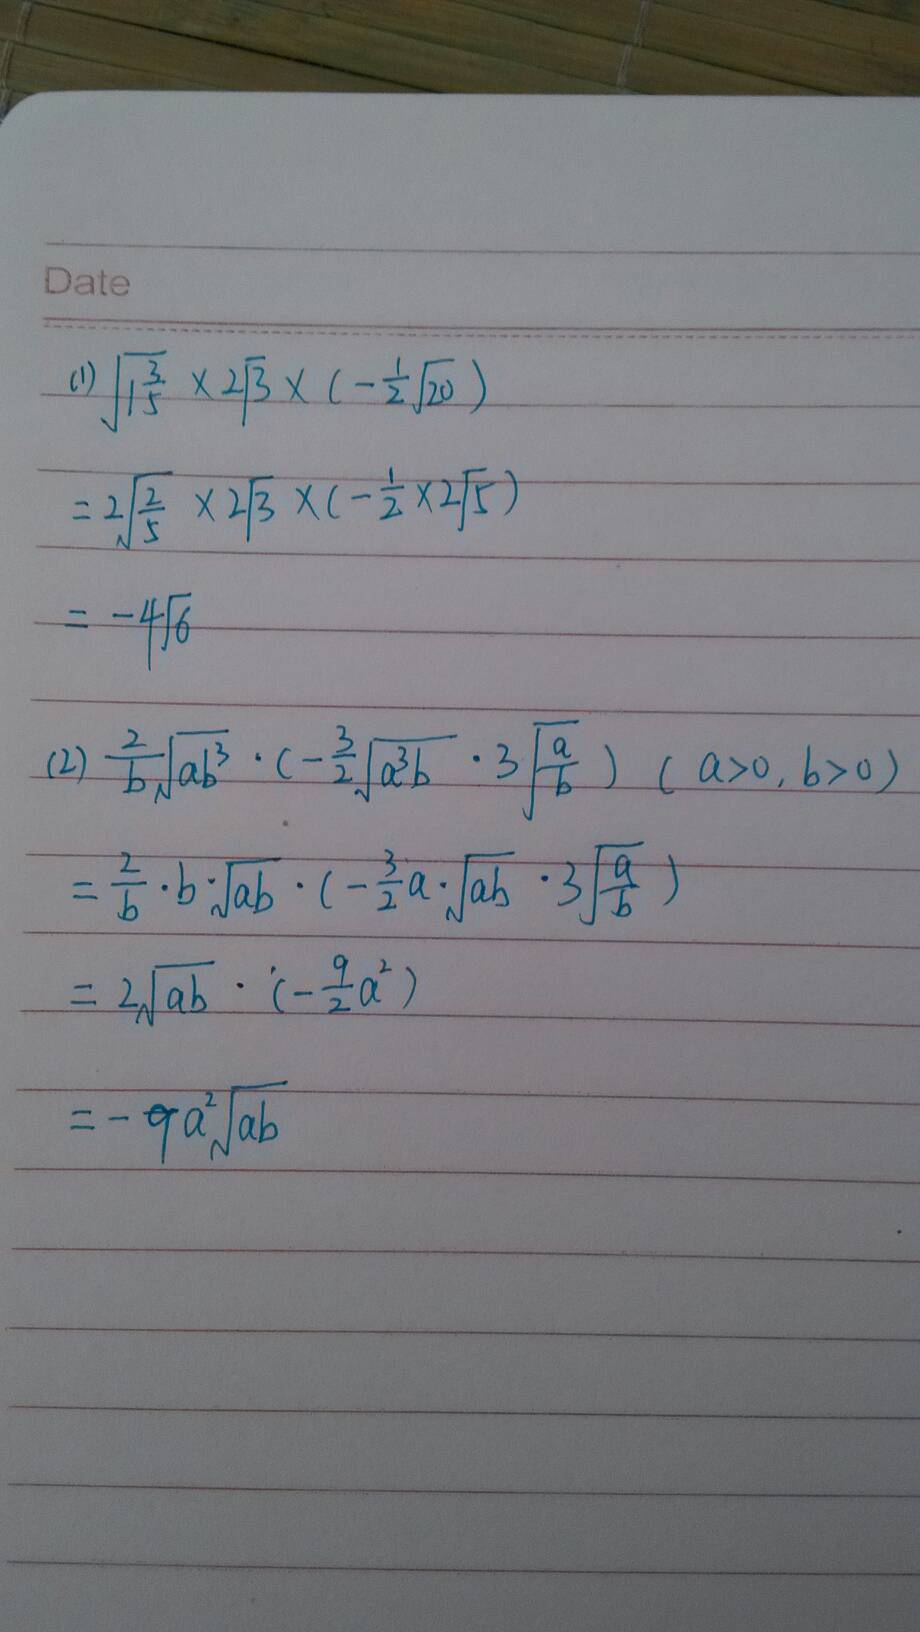cube: (389, 744, 413, 773), (210, 738, 235, 762)
division: (601, 874, 647, 901), (104, 871, 157, 893)
sqrt: (359, 722, 464, 805), (221, 1069, 304, 1174), (160, 720, 242, 815), (518, 707, 587, 818), (586, 837, 665, 935), (443, 844, 526, 934), (143, 957, 230, 1037), (111, 340, 170, 444), (215, 847, 286, 935), (128, 457, 189, 554), (413, 347, 477, 429), (231, 349, 282, 442), (233, 469, 282, 551), (459, 456, 501, 551), (157, 585, 206, 662)
square: (192, 1085, 231, 1120), (379, 951, 409, 987)
